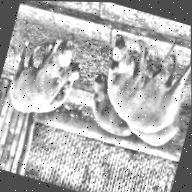boar: (87, 23, 192, 149), (3, 22, 80, 124), (74, 68, 120, 141), (47, 62, 90, 120)
